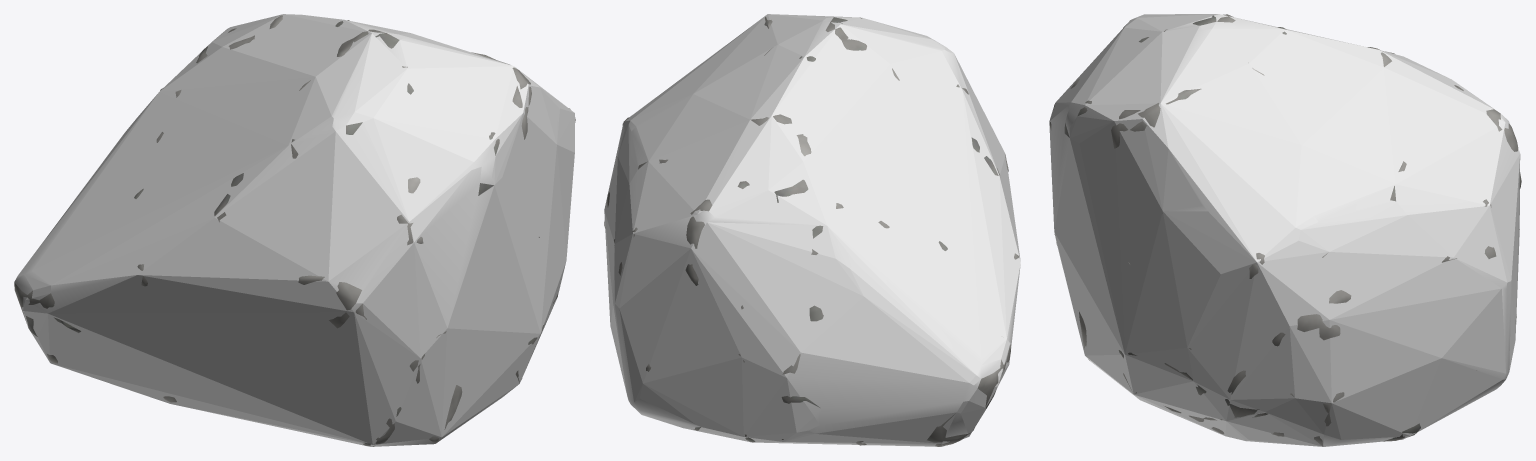
The model's file is test_rock.glb.
3 renders of one model, left to right at view 1: azimuth 30°, elevation 25°; view 2: azimuth 150°, elevation 25°; view 3: azimuth 270°, elevation 25°, orthographic. The views are drawn at different scales.
Visible parts, largest first — view 1: col_rock, rock; view 2: col_rock, rock; view 3: col_rock, rock.
Boxes of the visible parts, x1,y1,x2,y2 form: col_rock: [14, 14, 574, 446]; rock: [14, 15, 575, 446]; col_rock: [604, 14, 1020, 446]; rock: [604, 17, 1018, 446]; col_rock: [1049, 14, 1520, 446]; rock: [1050, 14, 1521, 446].
Bounding box in the file's own units: 1.99 × 1.51 × 1.73.
1 material, 1 textured.
